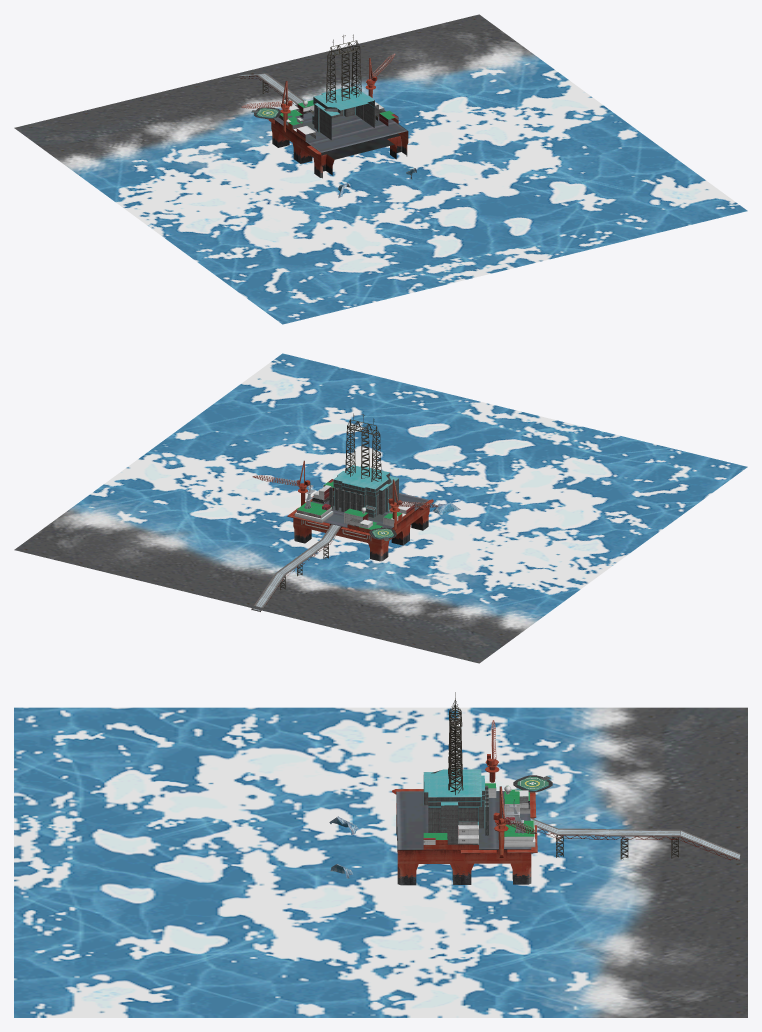
Rendered from MapP02_End.fbx.
3 views of the same model, one above another, from view 1: azimuth 30°, elevation 25°; view 2: azimuth 150°, elevation 25°; view 3: azimuth 270°, elevation 25° (orthographic). The views are drawn at different scales.
Parts seen in each view (by area): view 1: Sea, House, Section_endpolySurface217; view 2: Sea, House, Section_endpolySurface217; view 3: Sea, House, Section_endpolySurface217, Section_endpolySurface215.
Part boxes in pixels (x1,y1,x2,y2): Sea: (14,14,747,324); House: (251,57,408,178); Section_endpolySurface217: (326,34,361,102); Sea: (14,353,747,663); House: (287,460,433,561); Section_endpolySurface217: (345,413,381,481); Sea: (14,707,747,1017); House: (392,728,552,885); Section_endpolySurface217: (448,692,463,794); Section_endpolySurface215: (530,818,609,835).
Size of the model in its own units: 17790 by 4587 by 17790.
